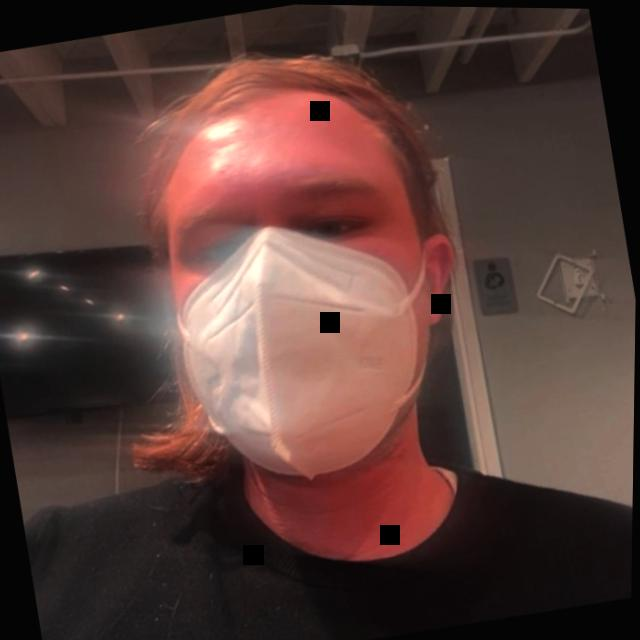Mask: (47, 7, 544, 614)
